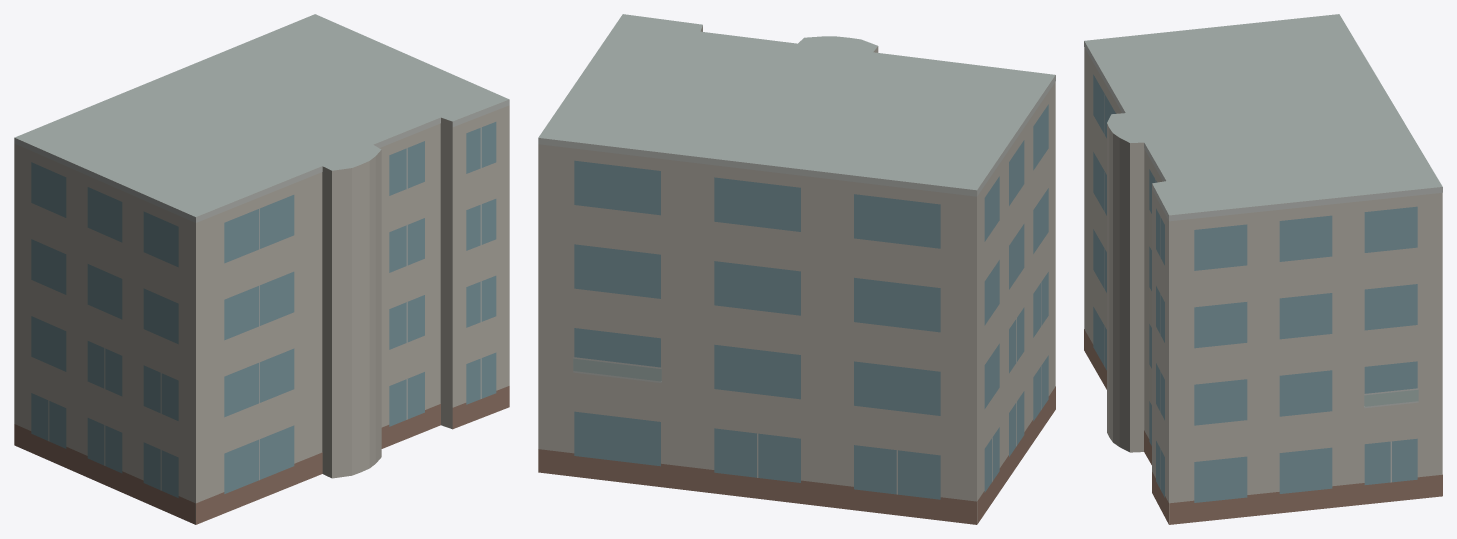
Rendered from survey-upis-32595659.glb.
3 renders of one model, left to right at view 1: azimuth 30°, elevation 25°; view 2: azimuth 150°, elevation 25°; view 3: azimuth 270°, elevation 25°, orthographic. The views are drawn at different scales.
Visible parts, largest first — view 1: survey-upis-32595659.tmp; view 2: survey-upis-32595659.tmp; view 3: survey-upis-32595659.tmp.
Boxes of the visible parts, <box> form: survey-upis-32595659.tmp: <box>14,14,509,524</box>; survey-upis-32595659.tmp: <box>538,14,1055,524</box>; survey-upis-32595659.tmp: <box>1084,14,1442,524</box>.
Size of the model in its own units: 17.89 by 12.81 by 13.47.
